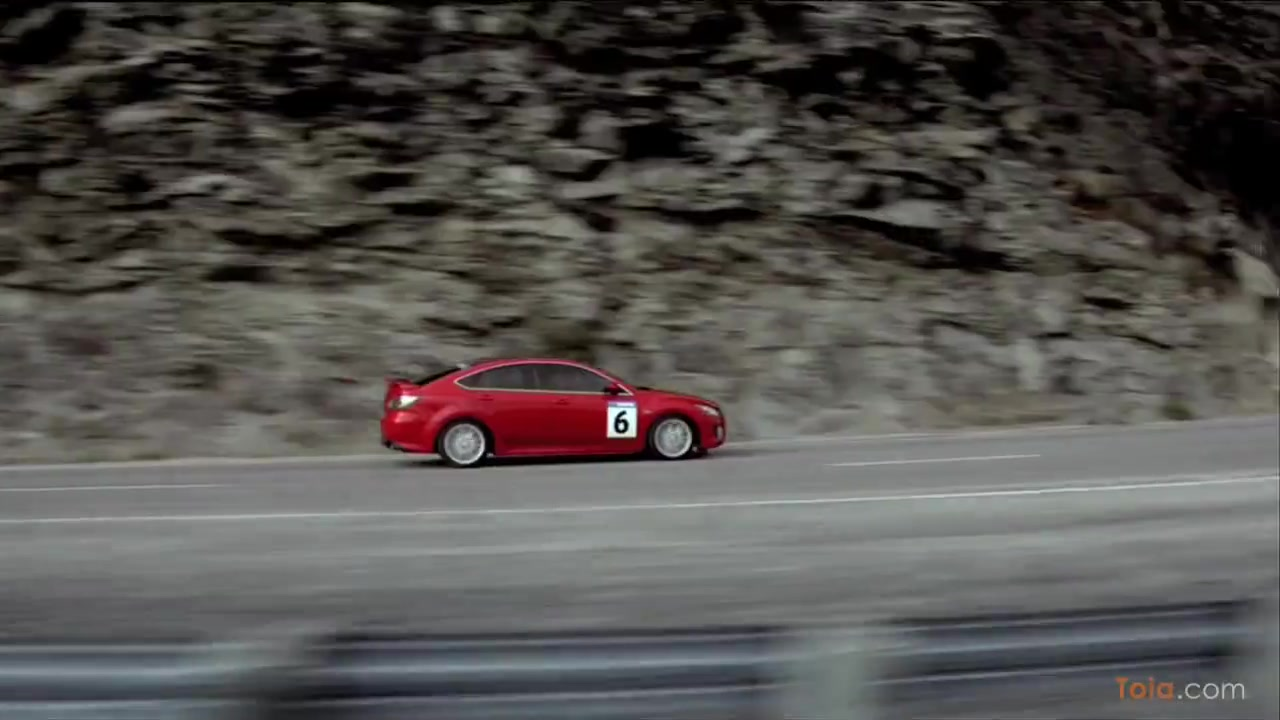car: (380, 348, 730, 469)
